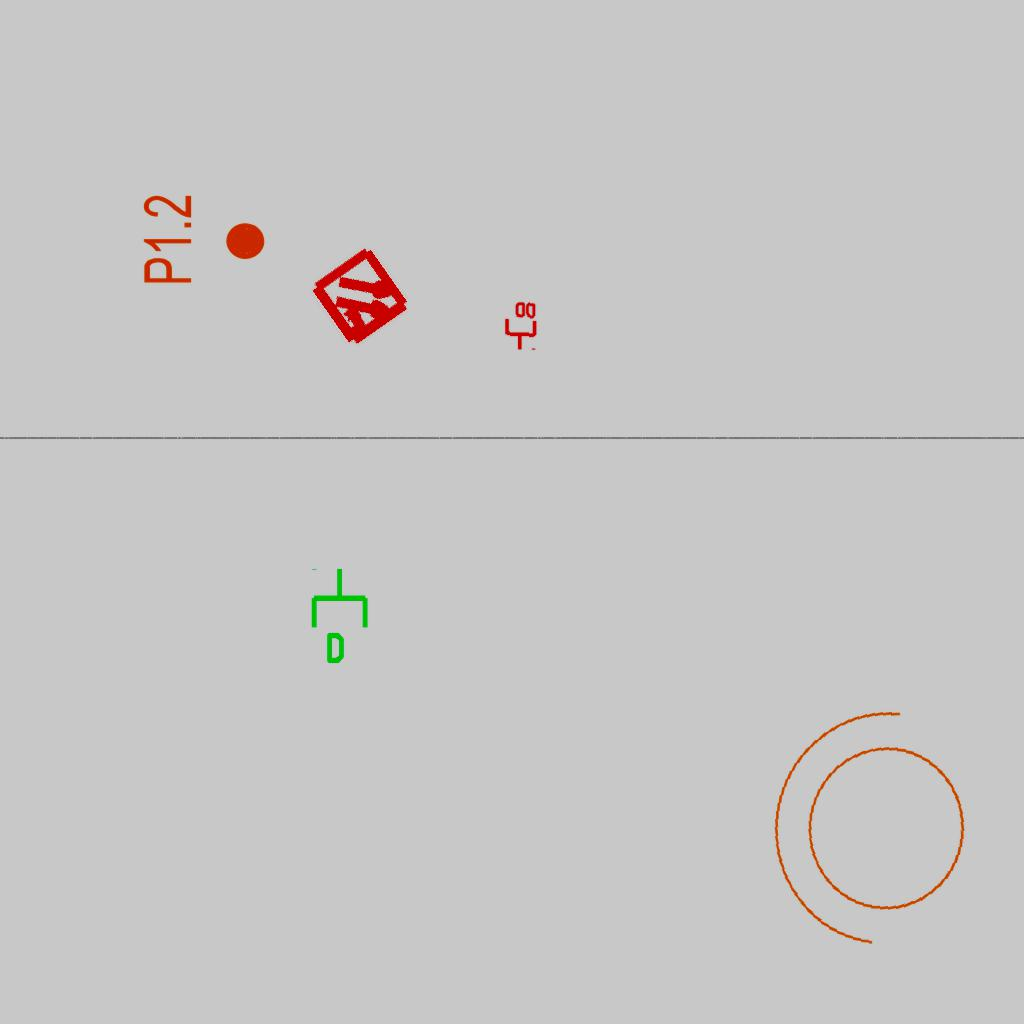Datenanschluss_einfach: (307, 566, 376, 666)
Datenanschluss_zweifach: (501, 299, 539, 352)
Downlight_LED_Einbauleuchten_Flur: (140, 193, 268, 286)
OT_Multisensormelder_(Kombination_RMO_WMD): (282, 219, 441, 378)
Scheinwerfer_fuer_Alarmbeleuchtung: (748, 688, 1004, 979)
